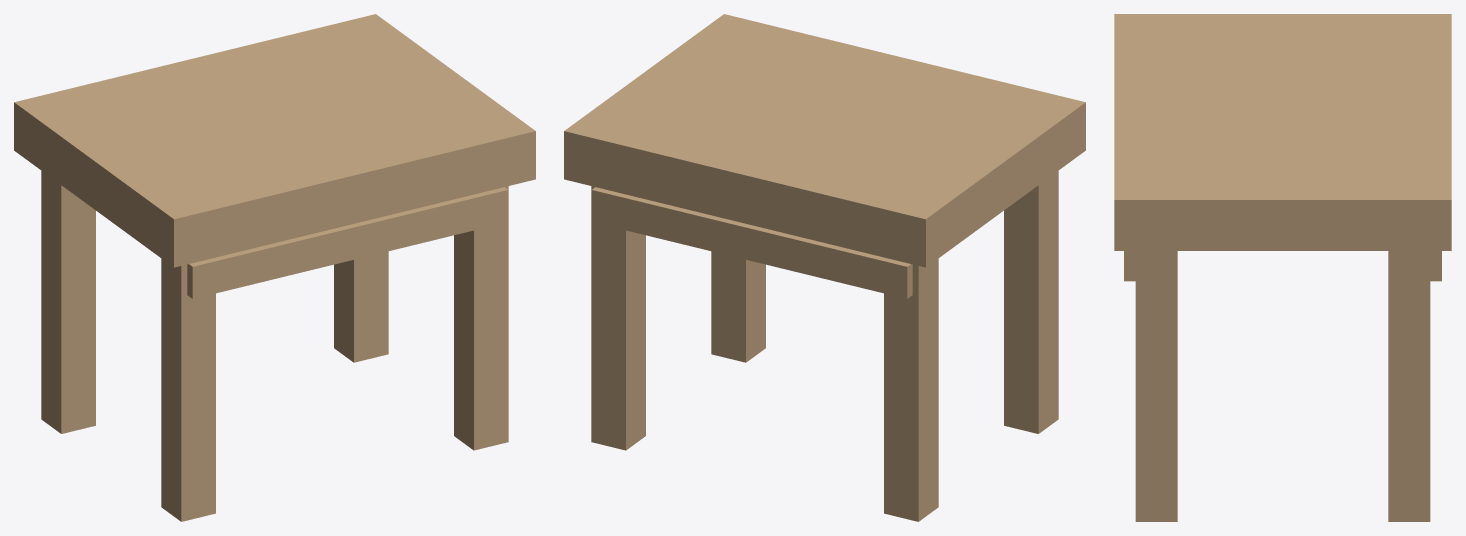
Rendered from table.glb.
3 renders of one model, left to right at view 1: azimuth 30°, elevation 25°; view 2: azimuth 150°, elevation 25°; view 3: azimuth 270°, elevation 25°, orthographic. The views are drawn at different scales.
Parts seen in each view (by area): view 1: table_0; view 2: table_0; view 3: table_0.
Part boxes in pixels (bbox=[...]): table_0: bbox=[14, 14, 535, 521]; table_0: bbox=[564, 14, 1085, 521]; table_0: bbox=[1114, 14, 1451, 521].
Bounding box in the file's own units: 0.94 × 0.78 × 0.72.
